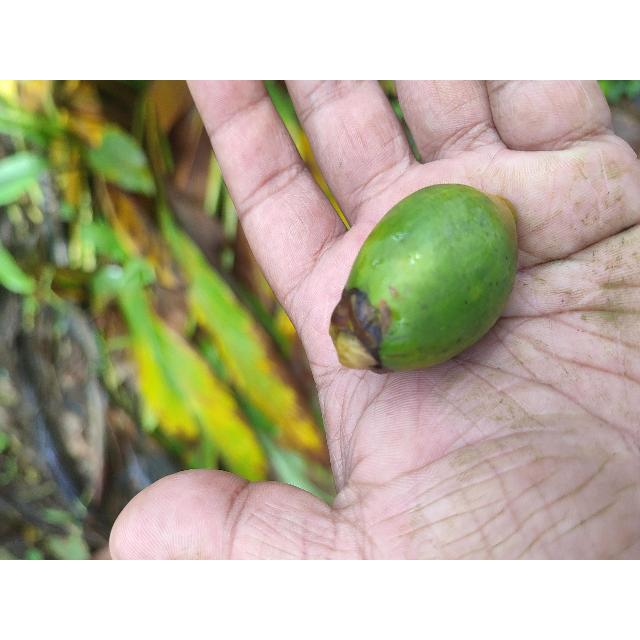damaged: (330, 183, 519, 373)
